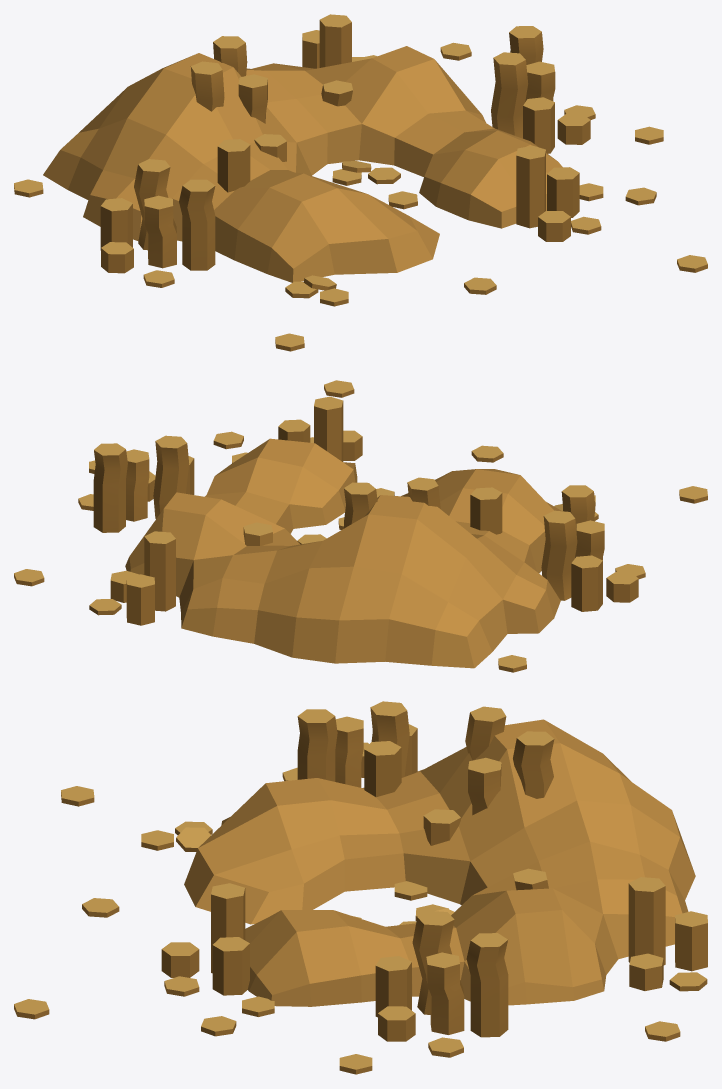
File: SD_Prop_CoinPile_02.fbx
3 views of the same model, one above another, from view 1: azimuth 30°, elevation 25°; view 2: azimuth 150°, elevation 25°; view 3: azimuth 270°, elevation 25° (orthographic). The views are drawn at different scales.
Parts seen in each view (by area): view 1: SD_Prop_CoinPile_02; view 2: SD_Prop_CoinPile_02; view 3: SD_Prop_CoinPile_02.
Boxes of the visible parts, left/top/right/bottom form: SD_Prop_CoinPile_02: left=14, top=14, right=707, bottom=351; SD_Prop_CoinPile_02: left=14, top=380, right=707, bottom=672; SD_Prop_CoinPile_02: left=14, top=701, right=707, bottom=1074.
Bounding box in the file's own units: 3.51 × 0.7377 × 3.32.
